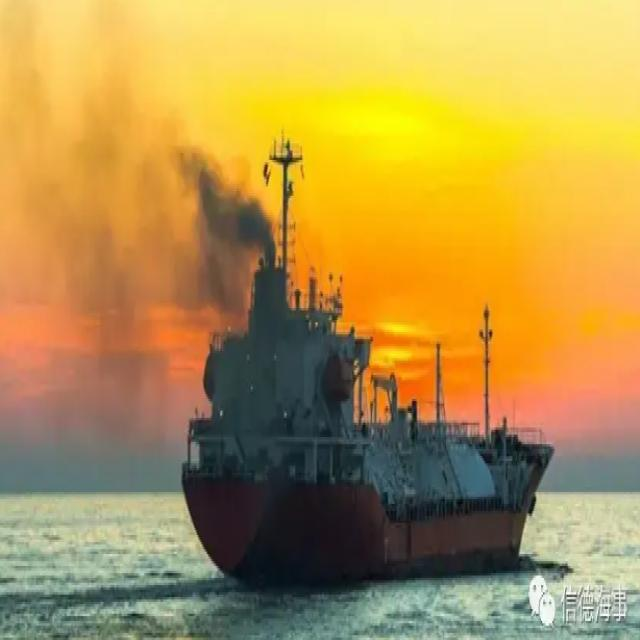cargoship: (175, 123, 548, 579)
